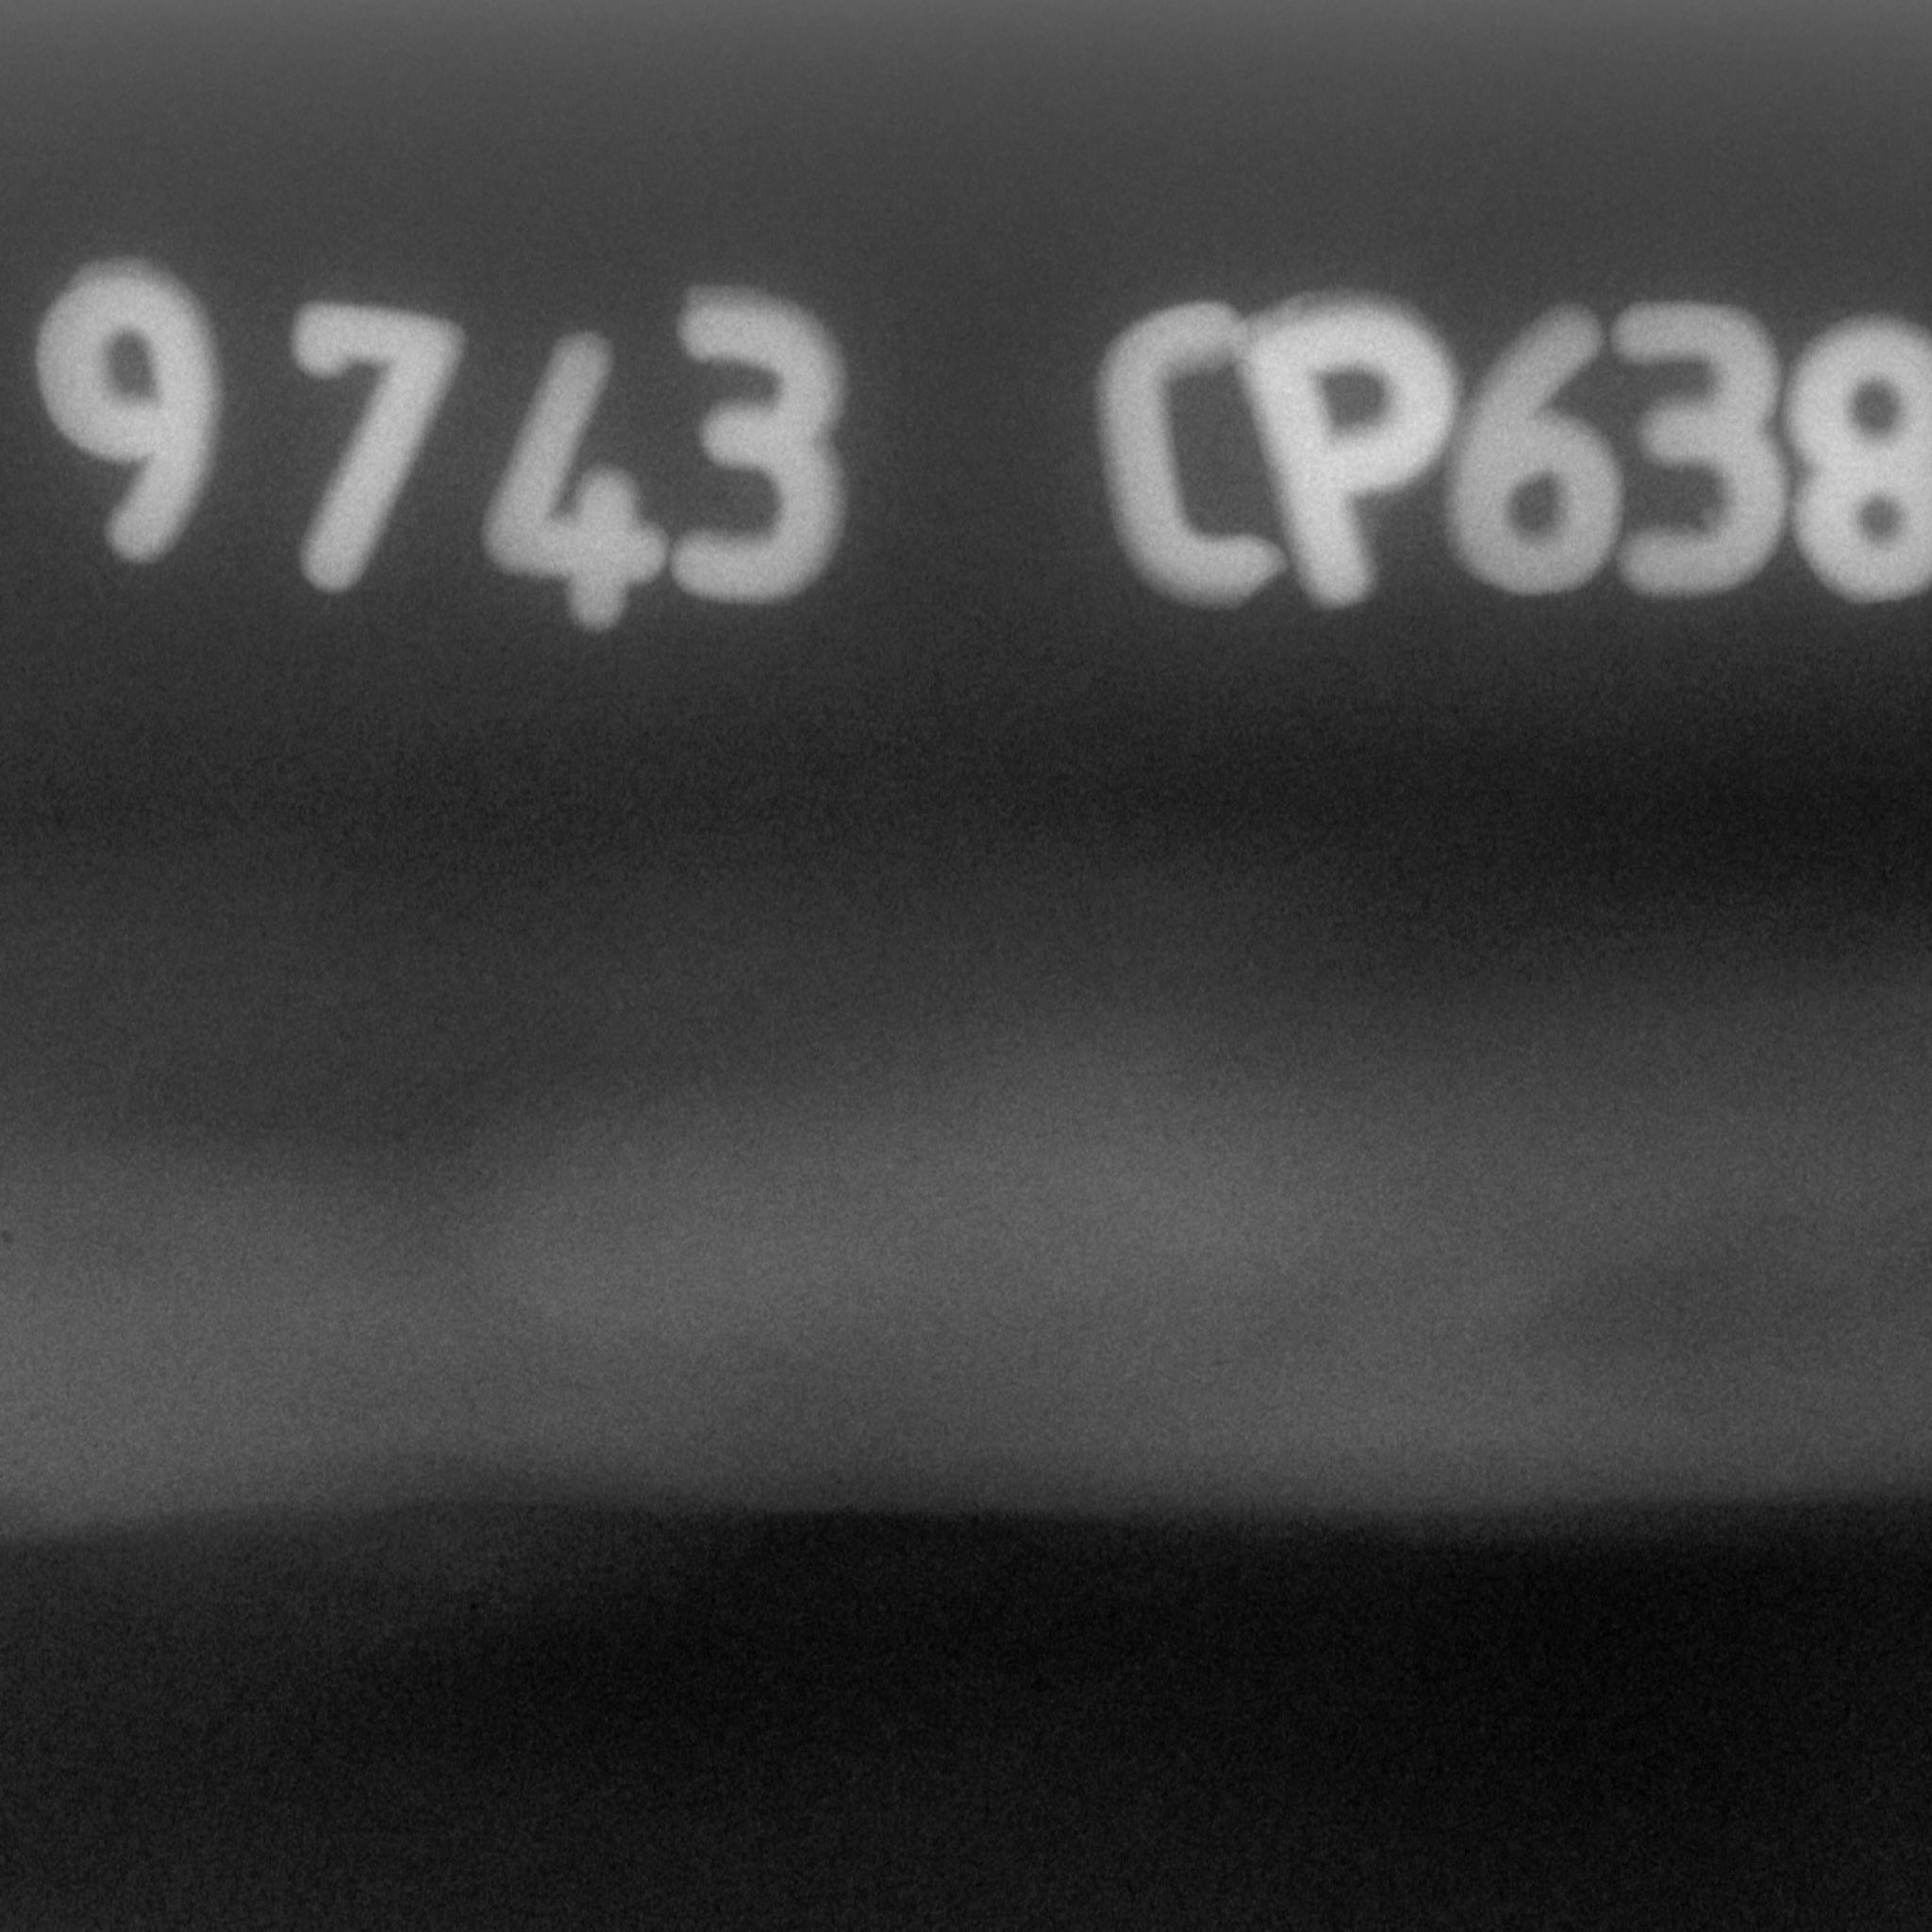FF: (145, 1008, 918, 1552)
